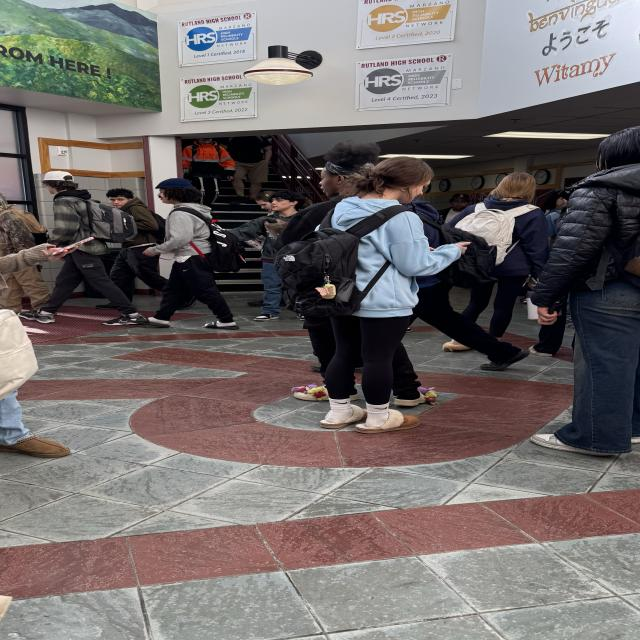pen: (49, 236, 94, 256), (541, 301, 565, 325), (443, 241, 472, 250)
